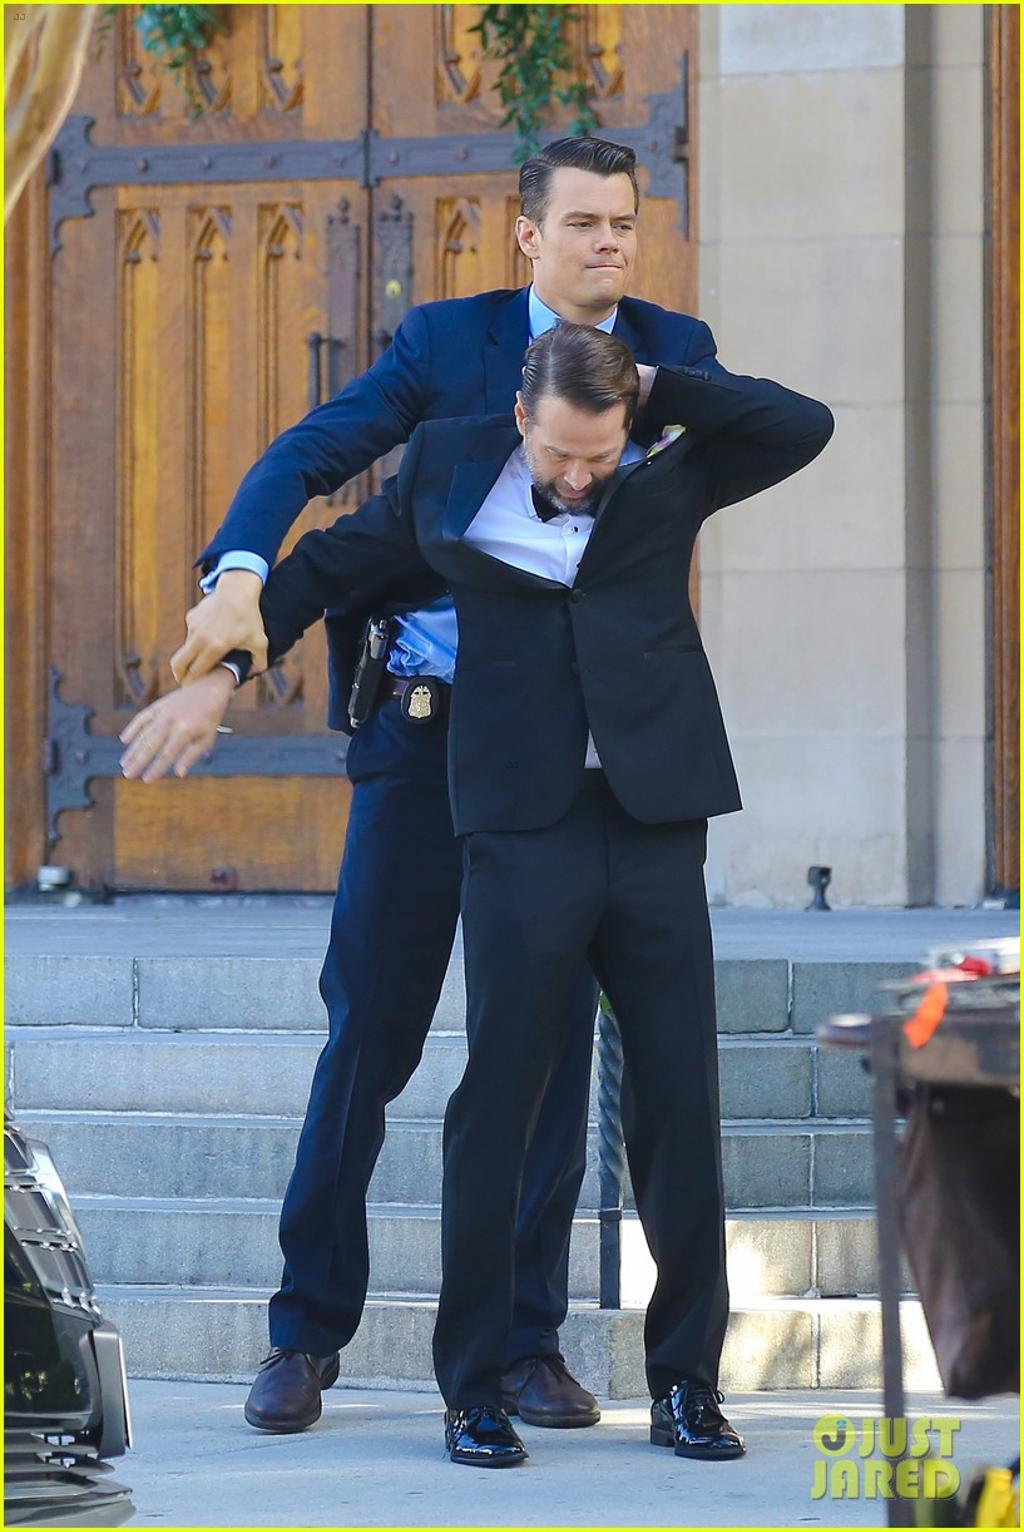face: (536, 147, 644, 300), (527, 395, 623, 518)
